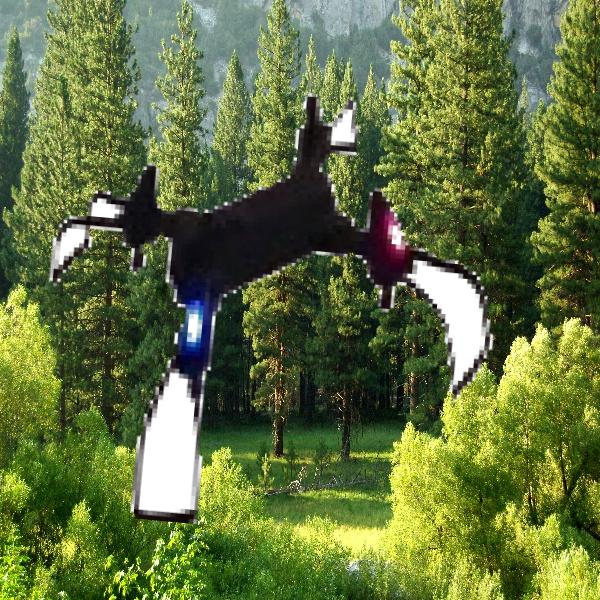drone: (39, 67, 504, 532)
